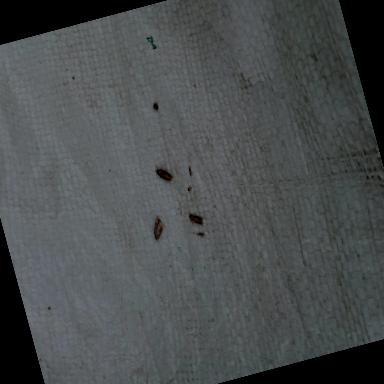pbw: (152, 161, 174, 185), (150, 216, 168, 242), (188, 210, 208, 230)
